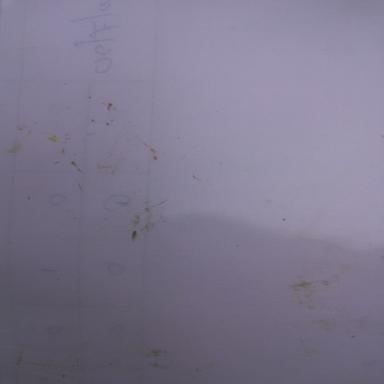pbw: (132, 231, 138, 242)
